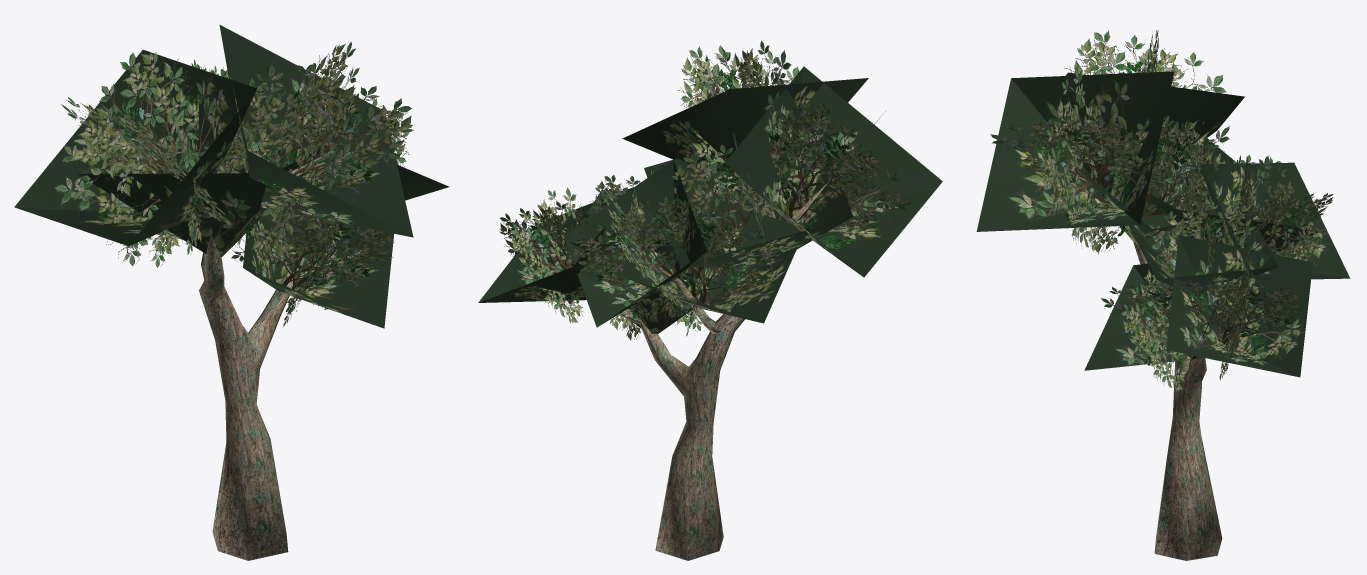
The model's file is decd_dogwoodtreeleaves_l0.fbx.
The picture shows the model from 3 angles, left to right: view 1: azimuth 30°, elevation 25°; view 2: azimuth 150°, elevation 25°; view 3: azimuth 270°, elevation 25°; orthographic projection. The views are drawn at different scales.
Parts seen in each view (by area): view 1: mesh_node; view 2: mesh_node; view 3: mesh_node.
Part boxes in pixels (left/top/right/bottom): mesh_node: left=14, top=25, right=449, bottom=560; mesh_node: left=478, top=41, right=942, bottom=560; mesh_node: left=976, top=30, right=1350, bottom=560.
Size of the model in its own units: 13.08 by 15.41 by 10.86.
